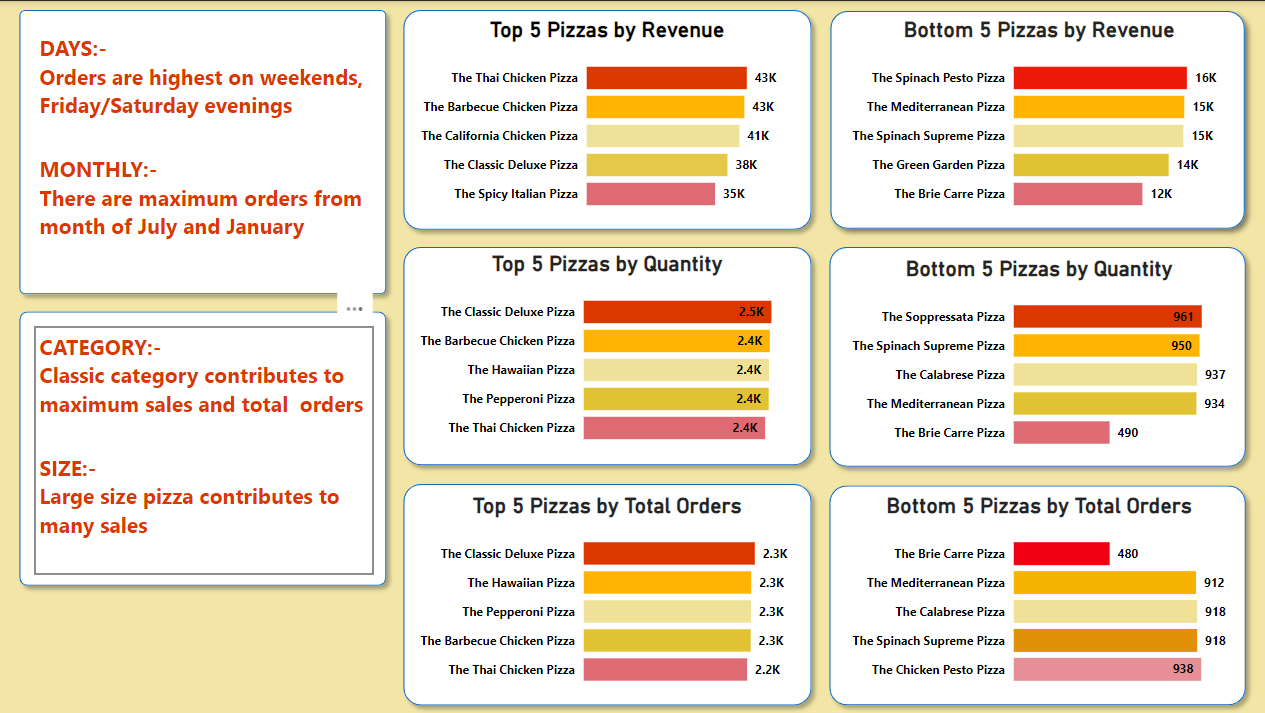

This screenshot's page, from the dashboard's own definition file:
{"tool":"powerbi","page":{"name":"Page 2","canvas":[1280,720],"ordinal":1},"visuals":[{"type":"shape","box":[10,0,388.3,305],"z":0},{"type":"shape","box":[10,305,388.3,295],"z":1000},{"type":"shape","box":[828.3,0,438.3,240],"z":2000},{"type":"shape","box":[398.3,0,430,240],"z":3000},{"type":"shape","box":[398.3,240,430,238.3],"z":4000},{"type":"shape","box":[398.3,478.3,430,241.7],"z":5000},{"type":"shape","box":[828.3,240,438.3,240],"z":6000},{"type":"shape","box":[828.3,480,438.3,240],"z":7000},{"type":"barChart","title":"Top 5 Pizzas by Revenue","fields":{"Category":["pizza_sales.pizza_name"],"Y":["Sum(pizza_sales.total_price)"]},"box":[418.3,16.7,390,206.7],"z":8000},{"type":"barChart","title":"Bottom 5 Pizzas by Revenue","fields":{"Category":["pizza_sales.pizza_name"],"Y":["Sum(pizza_sales.total_price)"]},"box":[853.3,16.7,390,206.7],"z":9000},{"type":"barChart","title":"Top 5 Pizzas by Quantity","fields":{"Category":["pizza_sales.pizza_name"],"Y":["Sum(pizza_sales.quantity)"]},"box":[418.3,253.3,390,206.7],"z":10000},{"type":"barChart","title":"Bottom 5 Pizzas by Quantity","fields":{"Category":["pizza_sales.pizza_name"],"Y":["Sum(pizza_sales.quantity)"]},"box":[853.3,256.7,390,206.7],"z":11000},{"type":"barChart","title":"Bottom 5 Pizzas by Total Orders","fields":{"Category":["pizza_sales.pizza_name"],"Y":["Count(pizza_sales.order_id)"]},"box":[853.3,496.7,390,206.7],"z":12000},{"type":"barChart","title":"Top 5 Pizzas by Total Orders","fields":{"Category":["pizza_sales.pizza_name"],"Y":["Count(pizza_sales.order_id)"]},"box":[418.3,496.7,390,206.7],"z":13000},{"type":"textbox","box":[35,26.7,341.7,241.7],"z":14000},{"type":"textbox","box":[34.8,328.6,342.2,249.8],"z":15000}]}

Visuals, with their boxes in screenshot pixels (x1, y1, x2, y2), scaled from the page's 1280x720 canvas onto the 1265x713 screenshot:
shape: {"left": 10, "top": 0, "right": 394, "bottom": 302}
shape: {"left": 10, "top": 302, "right": 394, "bottom": 594}
shape: {"left": 819, "top": 0, "right": 1252, "bottom": 238}
shape: {"left": 394, "top": 0, "right": 819, "bottom": 238}
shape: {"left": 394, "top": 238, "right": 819, "bottom": 474}
shape: {"left": 394, "top": 474, "right": 819, "bottom": 712}
shape: {"left": 819, "top": 238, "right": 1252, "bottom": 475}
shape: {"left": 819, "top": 475, "right": 1252, "bottom": 712}
"Top 5 Pizzas by Revenue" barChart: {"left": 413, "top": 17, "right": 799, "bottom": 221}
"Bottom 5 Pizzas by Revenue" barChart: {"left": 843, "top": 17, "right": 1229, "bottom": 221}
"Top 5 Pizzas by Quantity" barChart: {"left": 413, "top": 251, "right": 799, "bottom": 456}
"Bottom 5 Pizzas by Quantity" barChart: {"left": 843, "top": 254, "right": 1229, "bottom": 459}
"Bottom 5 Pizzas by Total Orders" barChart: {"left": 843, "top": 492, "right": 1229, "bottom": 697}
"Top 5 Pizzas by Total Orders" barChart: {"left": 413, "top": 492, "right": 799, "bottom": 697}
textbox: {"left": 35, "top": 26, "right": 372, "bottom": 266}
textbox: {"left": 34, "top": 325, "right": 373, "bottom": 573}
